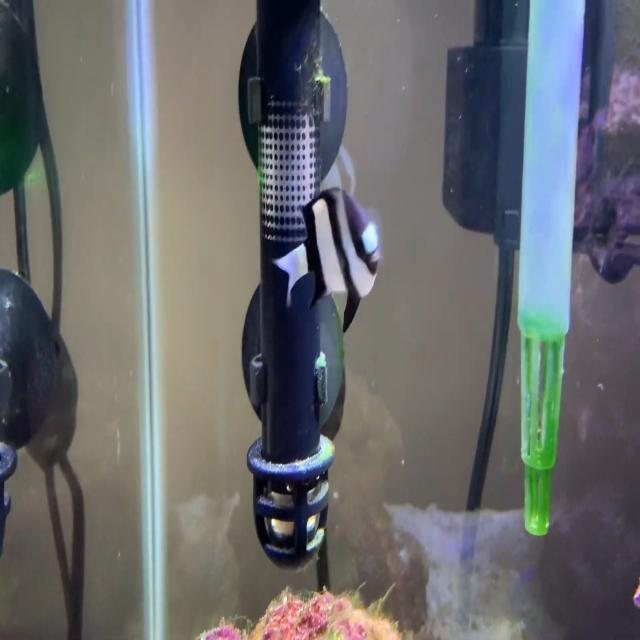ThreeStripedDamselfish: (272, 187, 383, 334)
